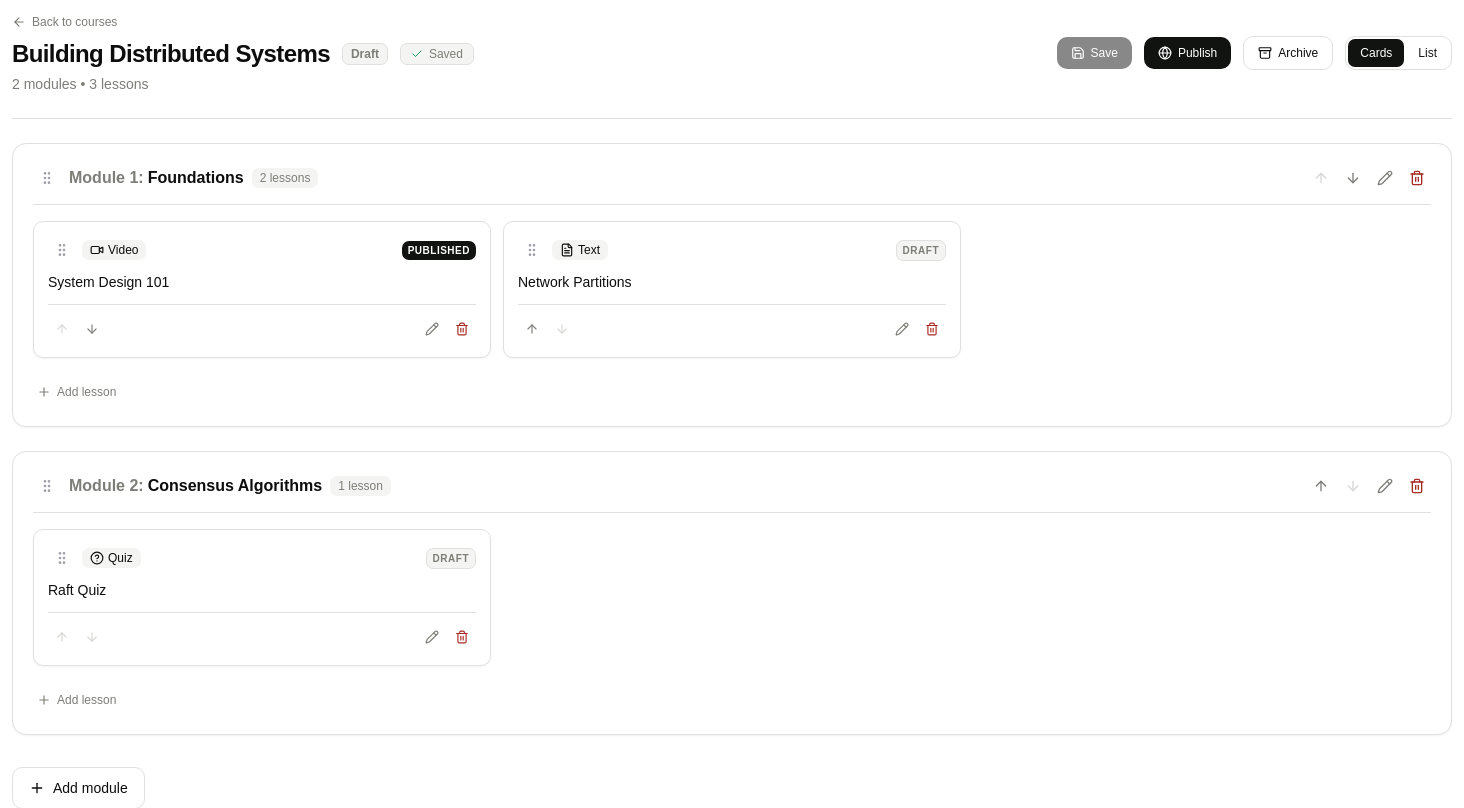
Test: CourseOutlineBuilder › edits a lesson title, type, and status
Click the button named "Edit lesson \"System Design 101\"": coordinates (432, 329) [418,315,446,343]
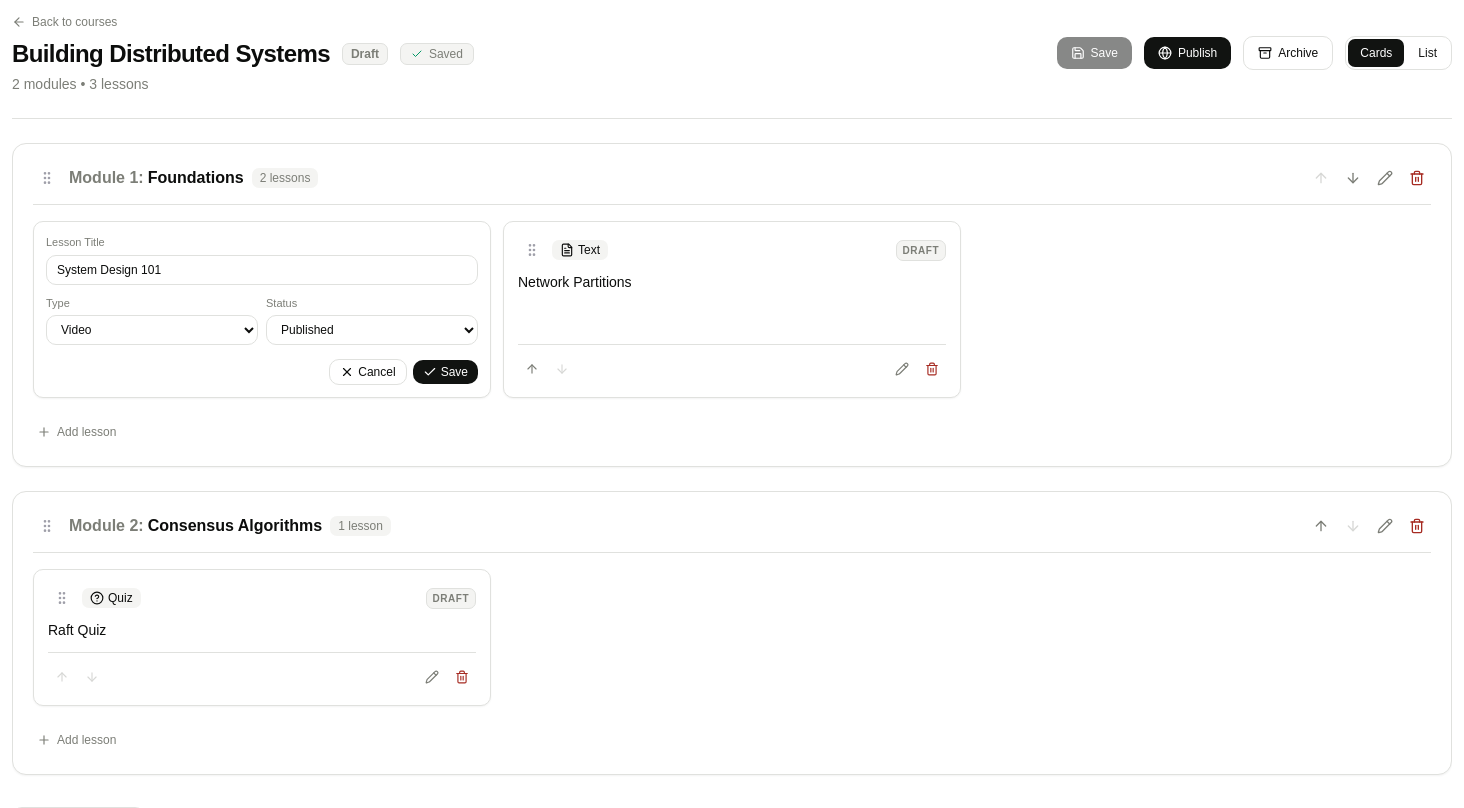
Replace the text in the field labelled "Lesson Title" with "System Design Masterclass": coordinates (262, 270) [46,254,478,284]
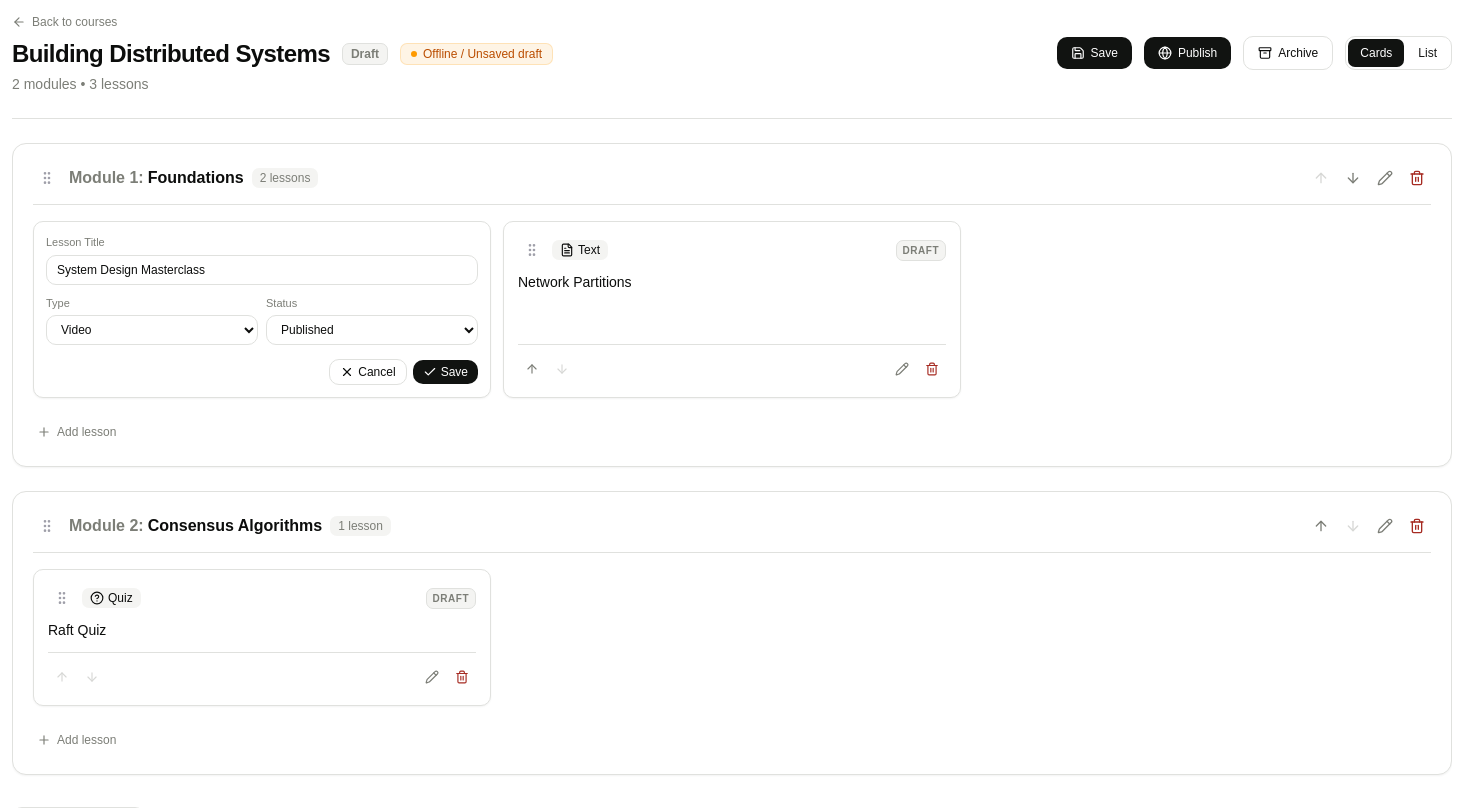
Select "Draft" in the dropdown labelled "Status": coordinates (372, 330) [266,315,478,345]
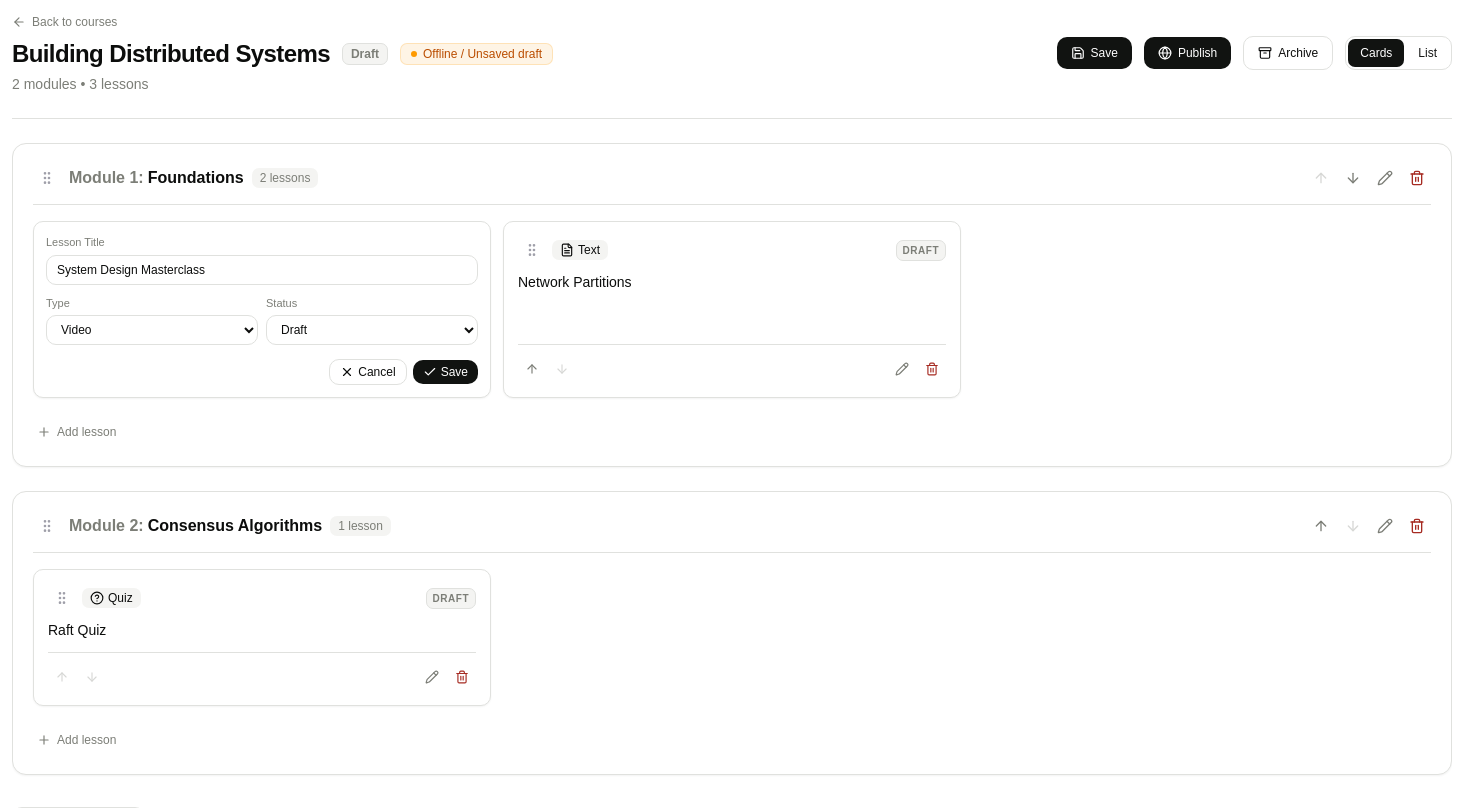
Click the button "Save" below "Status": coordinates (445, 372) [413,360,478,384]
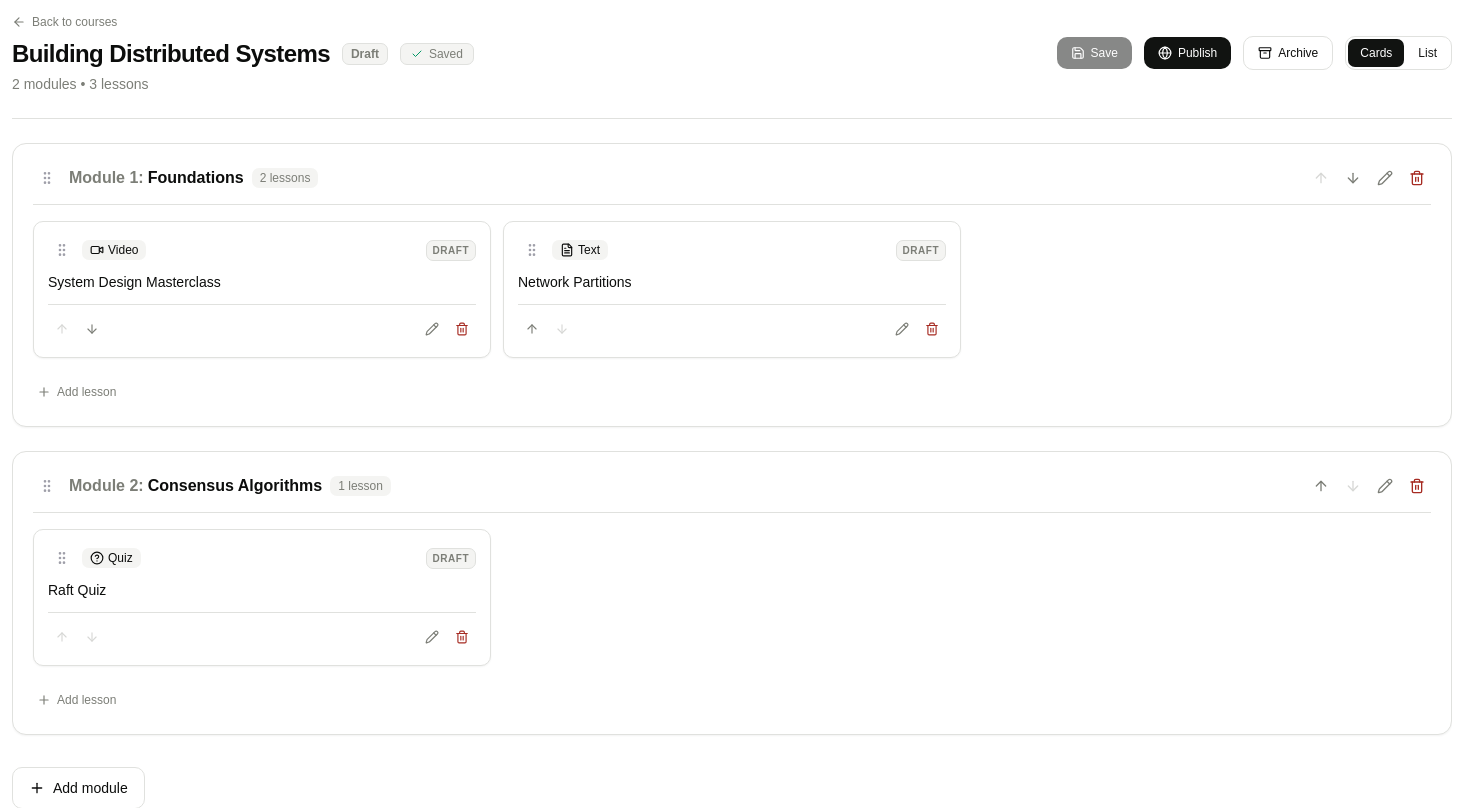
Now the text "System Design Masterclass" is shown, box [48,274,221,290]
